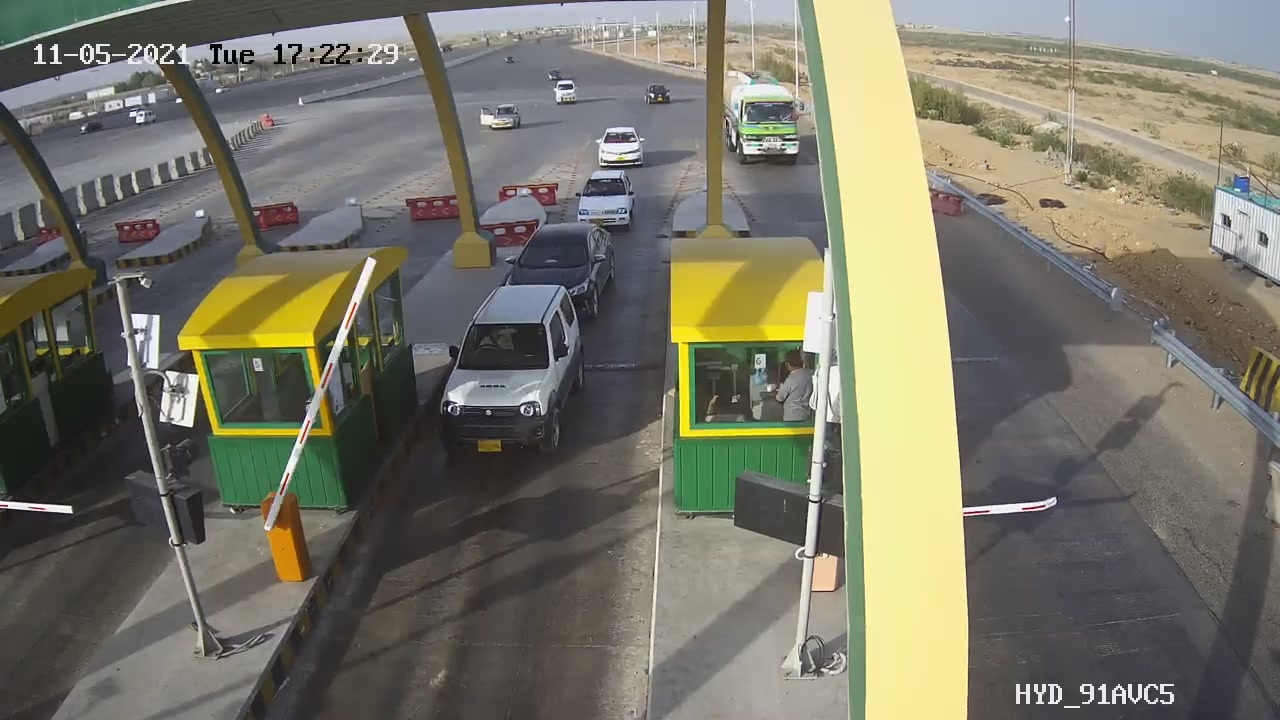F1: (418, 270, 607, 475)
